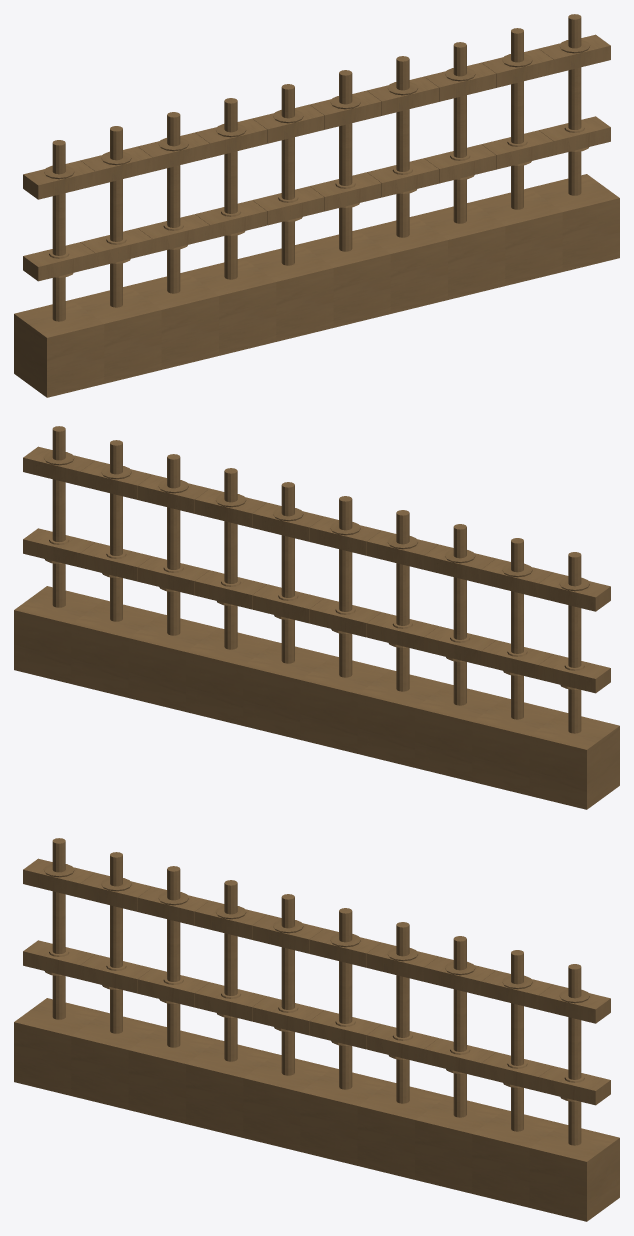
File: Railingx10.glb
3 renders of one model, top to bottom at view 1: azimuth 30°, elevation 25°; view 2: azimuth 150°, elevation 25°; view 3: azimuth 330°, elevation 25°, orthographic.
Parts seen in each view (by area): view 1: Railingx10; view 2: Railingx10; view 3: Railingx10.
Part boxes in pixels (left/top/right/bottom): Railingx10: left=14, top=14, right=619, bottom=397; Railingx10: left=14, top=426, right=619, bottom=809; Railingx10: left=14, top=838, right=619, bottom=1221.
Size of the model in its own units: 20 by 7.88 by 2.
1 material, 1 textured.
